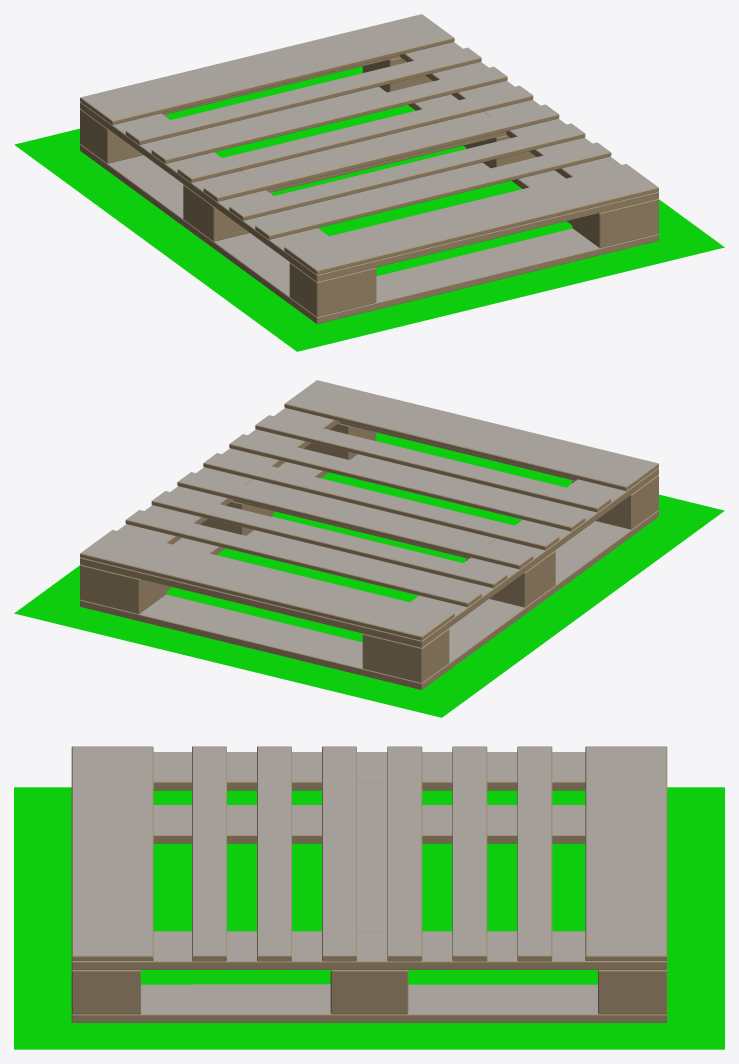
The model's file is pallet.fbx.
The picture shows the model from 3 angles, top to bottom: view 1: azimuth 30°, elevation 25°; view 2: azimuth 150°, elevation 25°; view 3: azimuth 270°, elevation 25°; orthographic projection. The views are drawn at different scales.
Visible parts, largest first — view 1: pallet, shdw; view 2: pallet, shdw; view 3: pallet, shdw.
Boxes of the visible parts, left/top/right/bottom form: pallet: left=80, top=14, right=658, bottom=323; shdw: left=14, top=66, right=724, bottom=351; pallet: left=80, top=380, right=658, bottom=689; shdw: left=14, top=432, right=724, bottom=717; pallet: left=71, top=746, right=667, bottom=1022; shdw: left=14, top=787, right=724, bottom=1049.
Size of the model in its own units: 49.76 by 5.98 by 57.02.
